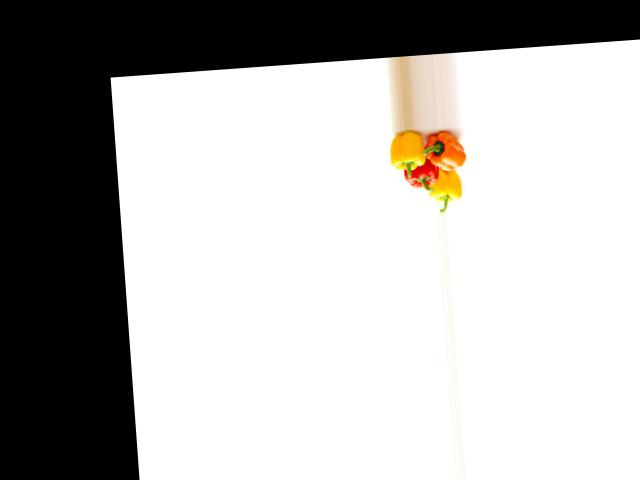bell_pepper: (387, 129, 437, 177)
